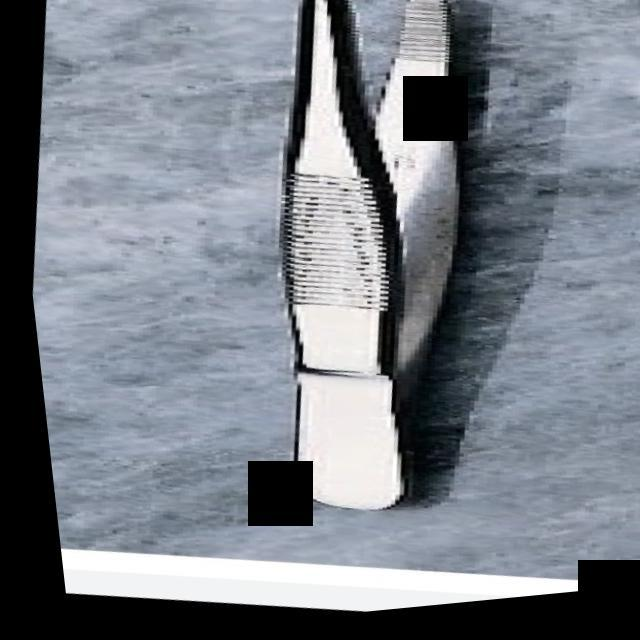Disscting Forceps -Plain-: (189, 0, 538, 542)
